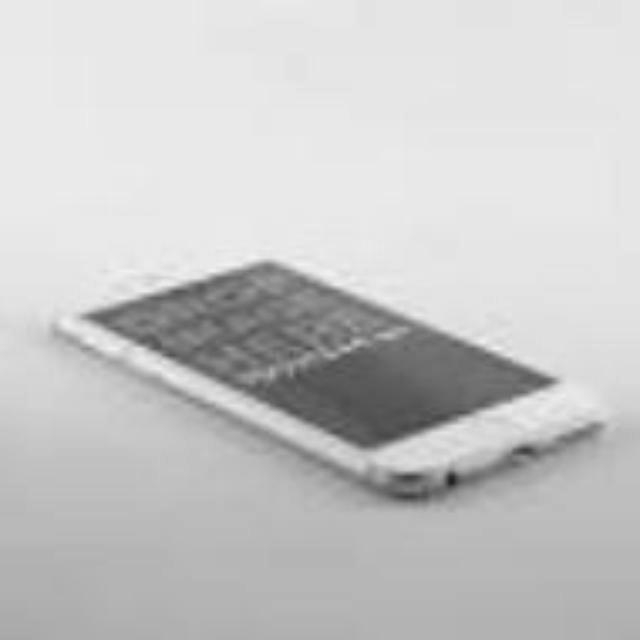fake: (28, 216, 615, 510)
